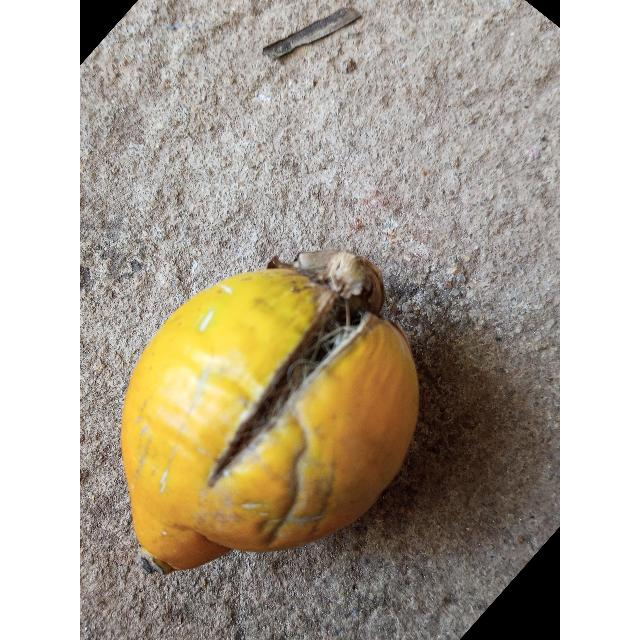damaged: (119, 251, 419, 576)
